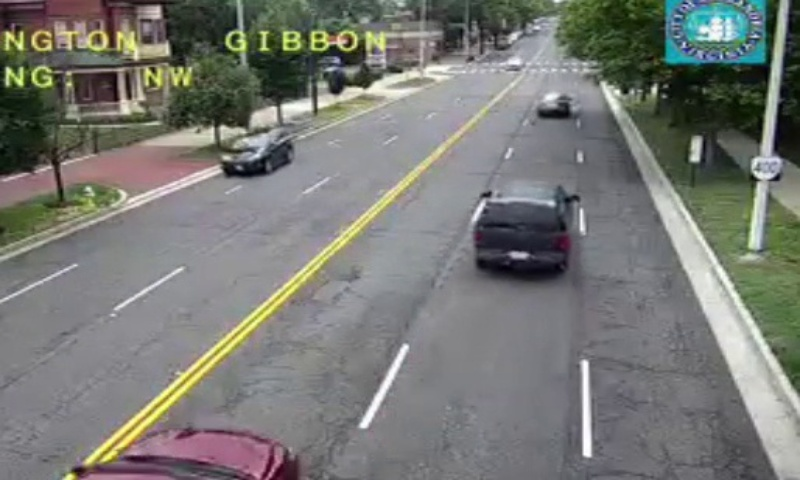car: (474, 183, 571, 271), (536, 93, 568, 115)
